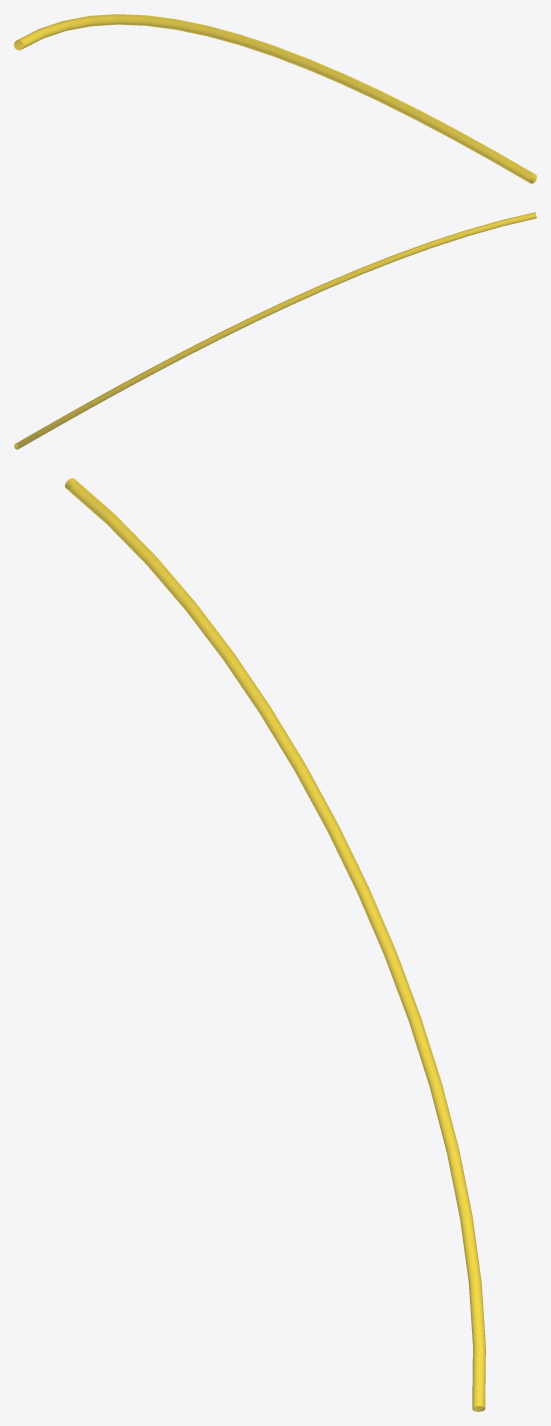
File: Event_17758602_track_150.fbx
3 views of the same model, one above another, from view 1: azimuth 30°, elevation 25°; view 2: azimuth 150°, elevation 25°; view 3: azimuth 270°, elevation 25° (orthographic). The views are drawn at different scales.
Visible parts, largest first — view 1: Model; view 2: Model; view 3: Model.
Boxes of the visible parts, x1,y1,x2,y2 form: Model: (14,14,536,183); Model: (14,212,536,449); Model: (65,478,485,1411).
Size of the model in its own units: 3 by 1.79 by 1.3.
